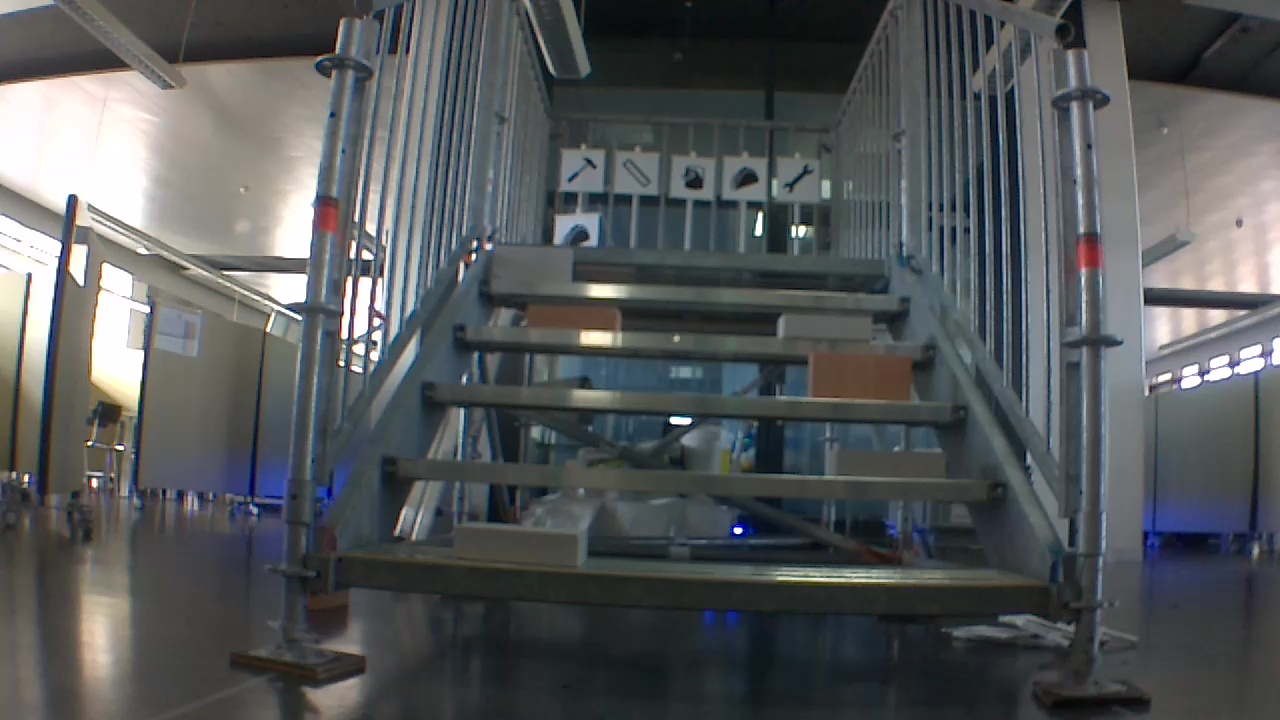brick: (451, 523, 583, 566), (807, 355, 915, 397), (834, 448, 954, 478), (486, 244, 568, 277), (519, 305, 625, 328), (773, 317, 871, 341)
bucket: (687, 164, 708, 187)
edge: (334, 555, 1054, 615), (385, 454, 1004, 500), (422, 380, 967, 425), (453, 325, 936, 365), (481, 276, 907, 313), (505, 244, 882, 270)
hammer: (564, 156, 600, 181)
ruler: (620, 160, 655, 186)
stairs: (277, 0, 1093, 686)
steps: (297, 245, 1066, 603)
taco: (727, 166, 761, 190), (561, 223, 590, 245)
wrench: (781, 162, 816, 195)
